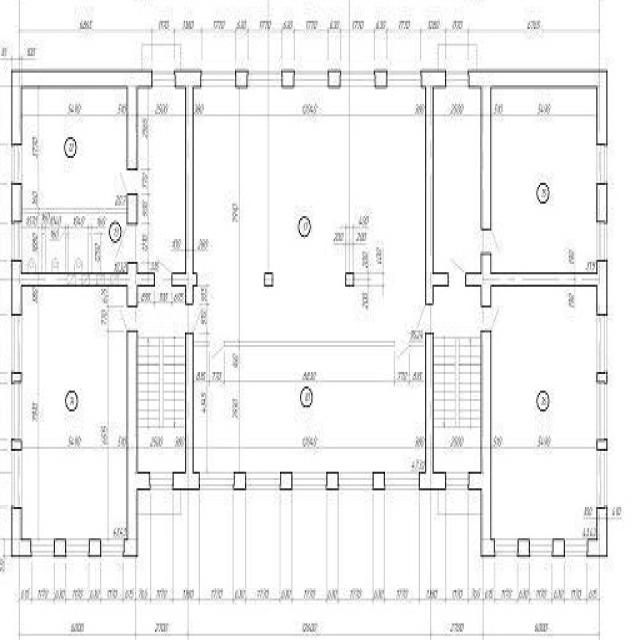Bathrooms: (68, 232, 88, 272), (23, 233, 41, 272), (47, 233, 65, 272)
Corridors: (194, 273, 425, 340), (138, 89, 185, 272), (434, 87, 480, 272), (22, 214, 127, 273), (434, 287, 481, 330), (138, 287, 185, 329), (138, 490, 181, 515), (142, 43, 181, 70), (438, 44, 477, 71), (438, 491, 480, 515)
Doors: (113, 223, 137, 261), (185, 304, 205, 333), (155, 252, 172, 286), (448, 254, 466, 286), (117, 306, 137, 332), (415, 304, 433, 332), (481, 306, 501, 331), (118, 168, 138, 193), (480, 228, 500, 252), (209, 341, 225, 363), (394, 341, 410, 362), (68, 226, 89, 233), (22, 226, 41, 233), (46, 225, 64, 232)
LBwalls: (469, 69, 608, 231), (11, 69, 152, 171), (465, 252, 608, 315), (11, 260, 155, 316), (171, 70, 203, 306), (122, 330, 151, 557), (421, 70, 449, 305), (467, 330, 495, 557), (172, 332, 200, 491), (419, 331, 446, 491), (587, 507, 608, 557), (10, 507, 31, 557), (11, 183, 22, 221), (597, 183, 607, 224), (126, 193, 137, 224), (373, 69, 388, 88), (281, 69, 294, 89), (326, 471, 339, 491), (280, 471, 293, 491), (235, 69, 248, 88), (328, 69, 341, 88), (54, 537, 66, 557), (373, 471, 385, 491), (552, 538, 565, 556), (517, 538, 529, 557), (234, 471, 246, 490), (89, 538, 101, 556), (264, 272, 274, 287), (344, 272, 354, 287), (596, 439, 607, 451), (11, 439, 23, 450), (11, 371, 22, 383), (596, 372, 607, 383)
Offices: (194, 87, 425, 272), (194, 346, 425, 471), (22, 287, 127, 538), (492, 287, 597, 537), (491, 87, 596, 272), (22, 88, 126, 208)
Stairs: (137, 330, 185, 473), (434, 331, 480, 471)
Walls: (225, 340, 394, 346), (22, 209, 127, 213), (42, 226, 46, 272), (88, 227, 92, 273), (65, 226, 68, 272), (409, 341, 425, 346), (194, 340, 209, 345)
Windows: (339, 471, 373, 490), (246, 471, 281, 489), (596, 315, 607, 372), (11, 450, 22, 507), (385, 471, 419, 489), (293, 471, 327, 489), (201, 70, 235, 87), (247, 70, 281, 87), (294, 70, 328, 87), (200, 472, 234, 489), (12, 382, 22, 439), (387, 70, 422, 86), (597, 451, 607, 507), (12, 315, 22, 371), (340, 70, 374, 86), (597, 382, 606, 439), (446, 471, 469, 490), (596, 221, 607, 260), (530, 538, 553, 556), (150, 471, 173, 489), (31, 538, 54, 556), (101, 538, 124, 556), (12, 221, 22, 261), (152, 70, 175, 87), (565, 539, 588, 556), (494, 540, 517, 557), (66, 538, 89, 555), (12, 144, 22, 183), (597, 145, 607, 183), (447, 70, 469, 86)
